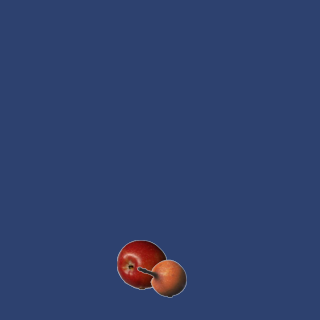Apple Braeburn: (116, 239, 166, 289)
Granadilla: (136, 253, 186, 303)
